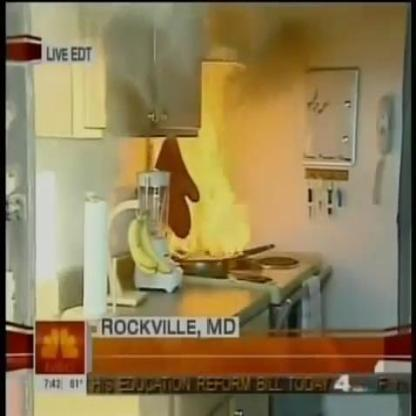fire: (187, 126, 252, 256)
